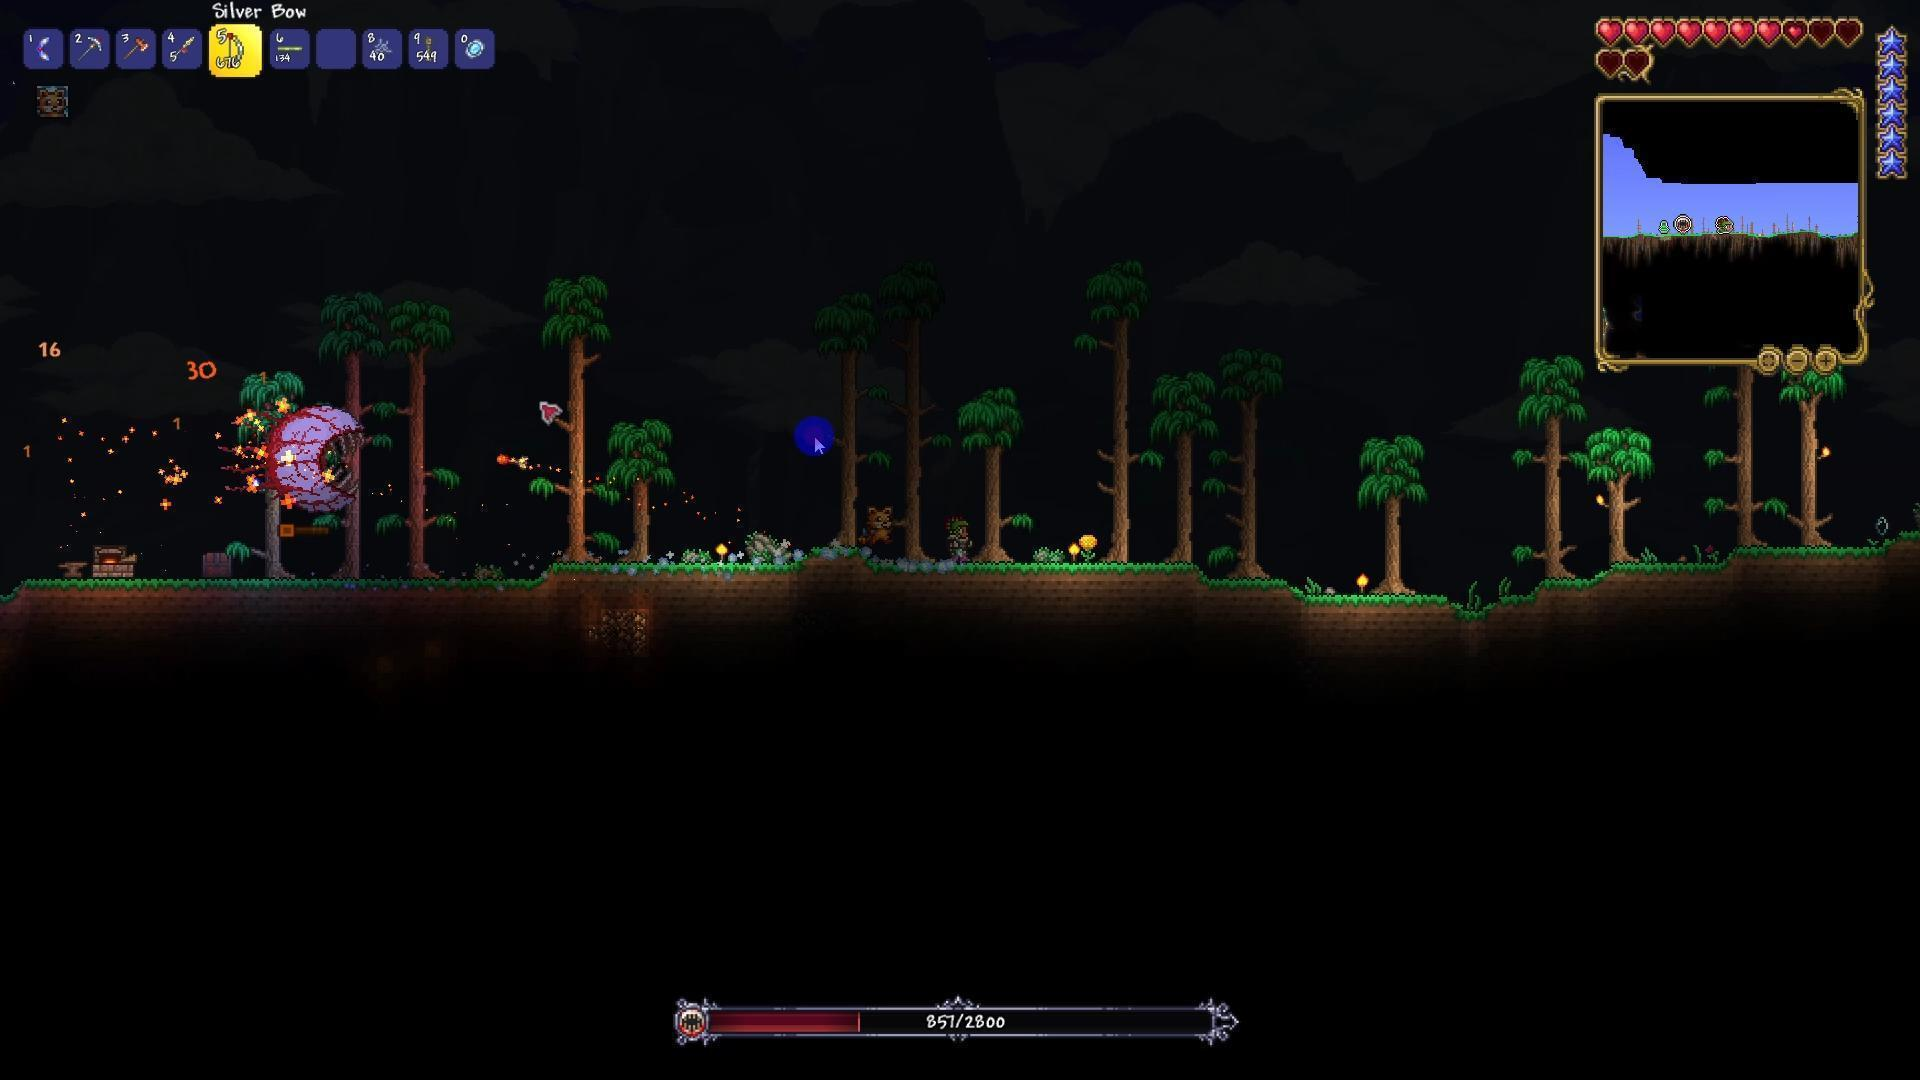anvil: (55, 547, 90, 578)
axe: (117, 37, 149, 63)
cobwebI: (372, 37, 396, 57)
eyeC: (214, 405, 367, 524)
furnace: (91, 543, 136, 582)
lens: (1870, 506, 1898, 542)
